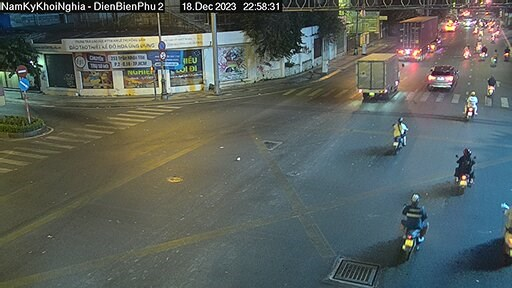car: (356, 52, 403, 97), (427, 63, 463, 93)
motorbike: (392, 198, 434, 258), (449, 148, 477, 191), (386, 119, 413, 156), (461, 90, 482, 119), (481, 74, 500, 94)
truck: (398, 10, 438, 63)
